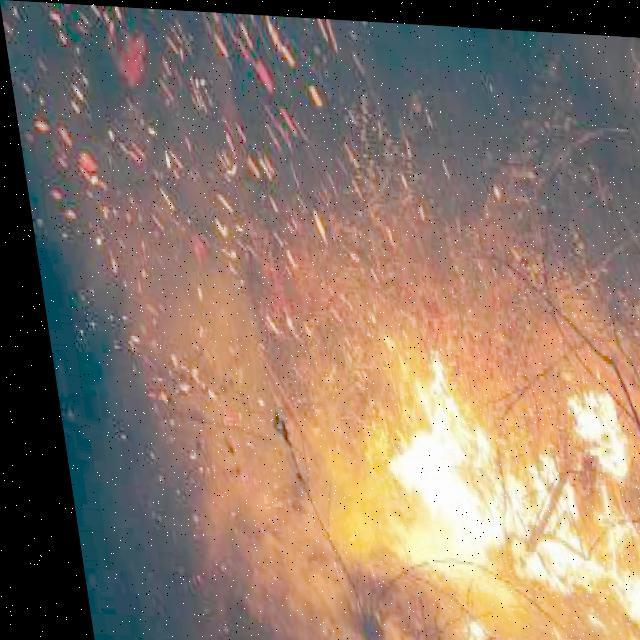Fire: (348, 317, 639, 639)
